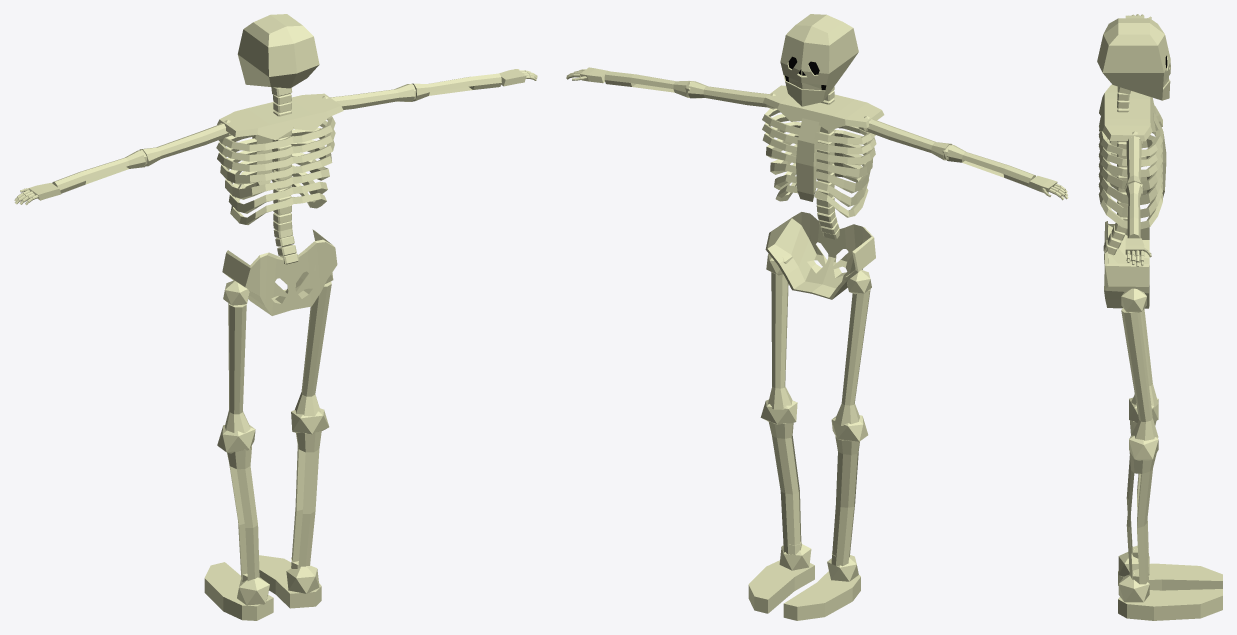
The model's file is skeletonchik.fbx.
3 views of the same model, side by side, from view 1: azimuth 30°, elevation 25°; view 2: azimuth 150°, elevation 25°; view 3: azimuth 270°, elevation 25° (orthographic). The views are drawn at different scales.
Parts seen in each view (by area): view 1: Cube.011, Cylinder.004, Cube.008, Cube, Cylinder.003, Cube.009, Cube.002, Cube.005, Cube.003, Cube.001, Icosphere.002, Icosphere.001 (+1 smaller); view 2: Cube.011, Cube.008, Cube, Cylinder.004, Cylinder.003, Cube.009, Cube.002, Cube.005, Cube.003, Cube.010, Cube.001, Icosphere.001 (+2 smaller); view 3: Cube, Cube.009, Cube.011, Cylinder.003, Cylinder.004, Cube.008, Cube.002, Cube.001, Icosphere.002, Icosphere.001, Cube.005, Cube.003 (+4 smaller).
Boxes of the visible parts, x1,y1,x2,y2 form: Cube.011: (216, 116, 335, 224); Cylinder.004: (227, 431, 321, 581); Cube.008: (222, 229, 337, 315); Cube: (237, 14, 319, 88); Cylinder.003: (225, 281, 331, 433); Cube.009: (204, 555, 321, 620); Cube.002: (217, 93, 343, 140); Cube.005: (52, 73, 501, 193); Cube.003: (139, 84, 414, 166); Cube.001: (271, 87, 298, 264); Icosphere.002: (237, 565, 319, 605); Icosphere.001: (217, 408, 329, 453); Cube.011: (762, 108, 876, 217); Cube.008: (765, 212, 875, 299); Cube: (780, 14, 858, 106); Cylinder.004: (768, 421, 859, 566); Cylinder.003: (768, 272, 870, 425); Cube.009: (748, 560, 860, 620); Cube.002: (763, 85, 884, 130); Cube.005: (604, 71, 1035, 186); Cube.003: (688, 81, 952, 160); Cube.010: (796, 118, 820, 201); Cube.001: (816, 87, 839, 239); Icosphere.001: (760, 399, 868, 442); Cube: (1097, 18, 1170, 100); Cube.009: (1118, 563, 1222, 620); Cube.011: (1098, 105, 1162, 229); Cylinder.003: (1121, 308, 1158, 440); Cylinder.004: (1126, 420, 1156, 584); Cube.008: (1104, 221, 1149, 308); Cube.002: (1099, 84, 1155, 141); Cube.001: (1103, 86, 1130, 255); Icosphere.002: (1118, 549, 1149, 602); Icosphere.001: (1129, 397, 1158, 460); Cube.005: (1125, 182, 1142, 238); Cube.003: (1124, 136, 1143, 190).
Bounding box in the file's own units: 222 × 238 × 47.13.
